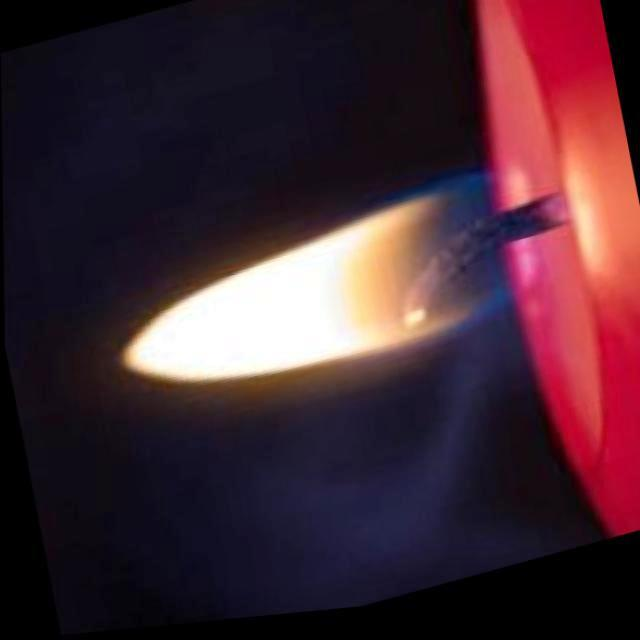fire: (102, 168, 546, 430)
